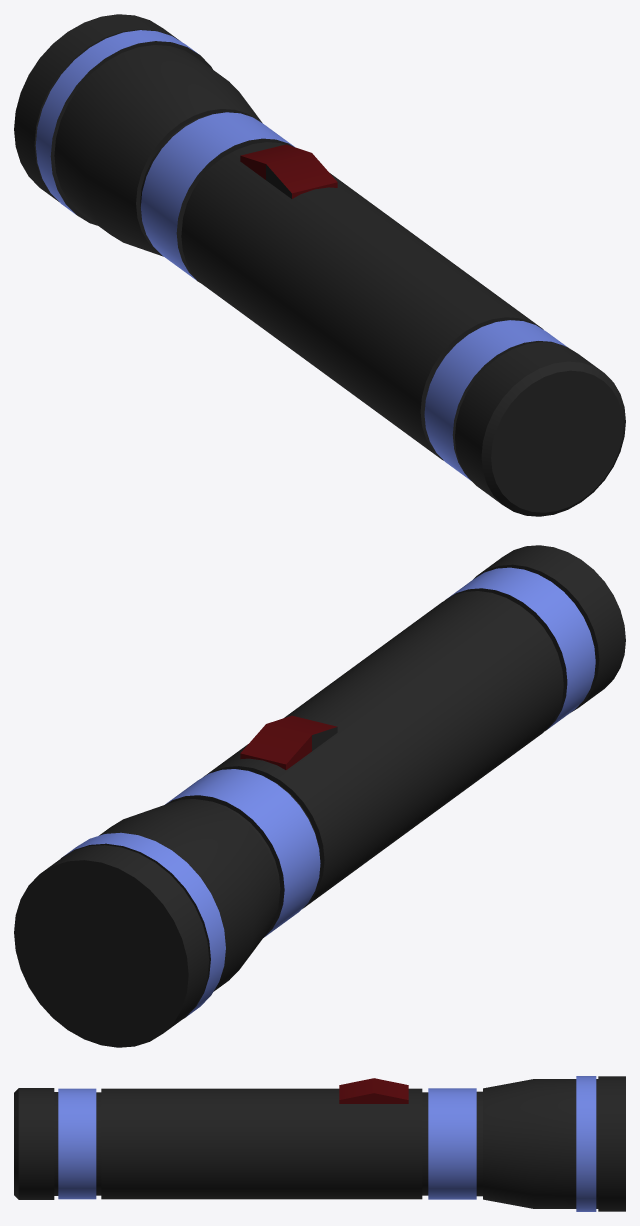
The model's file is flash_light.glb.
3 renders of one model, top to bottom at view 1: azimuth 30°, elevation 25°; view 2: azimuth 150°, elevation 25°; view 3: azimuth 270°, elevation 25°, orthographic. The views are drawn at different scales.
Visible parts, largest first — view 1: Cylinder; view 2: Cylinder; view 3: Cylinder.
Boxes of the visible parts, left/top/right/bottom form: Cylinder: left=14, top=14, right=625, bottom=516; Cylinder: left=14, top=545, right=625, bottom=1047; Cylinder: left=14, top=1076, right=625, bottom=1211.
Bounding box in the file's own units: 0.5506 × 0.5506 × 2.48.
